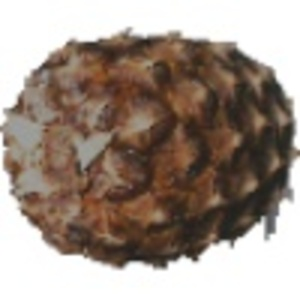abacaxi: (6, 31, 289, 277)
